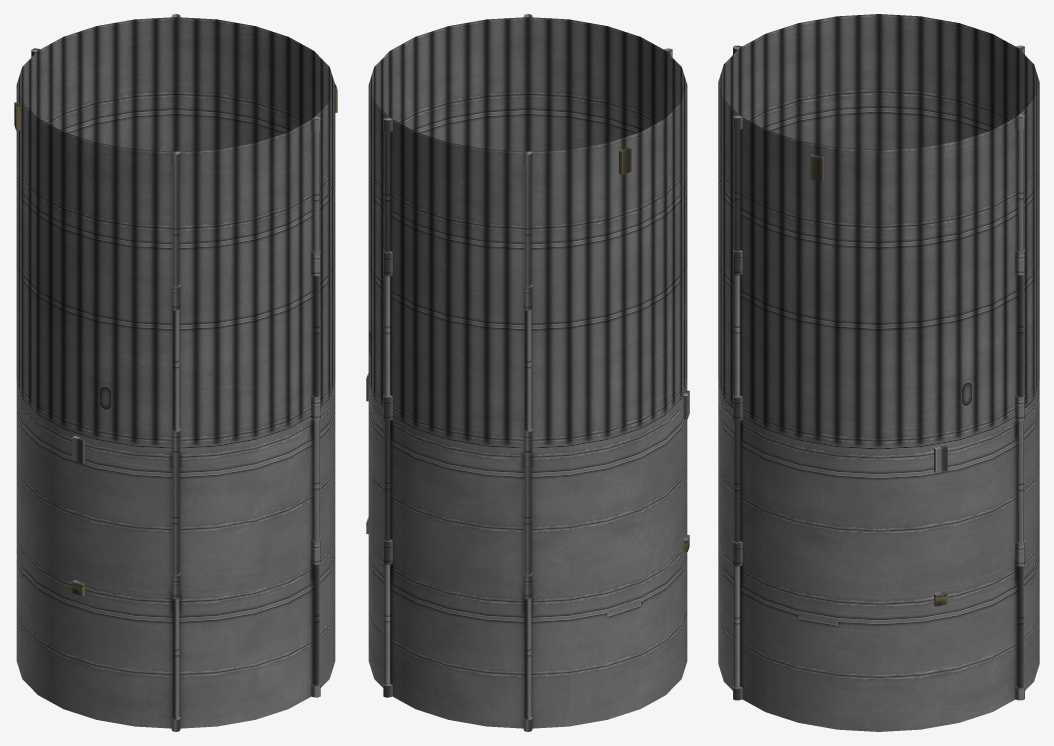
Rendered from blue_streak_fuel_tank_s1p5_3_alt.obj.
The picture shows the model from 3 angles, left to right: view 1: azimuth 30°, elevation 25°; view 2: azimuth 150°, elevation 25°; view 3: azimuth 270°, elevation 25°; orthographic projection.
Parts seen in each view (by area): view 1: mesh2; view 2: mesh2; view 3: mesh2.
Part boxes in pixels (box(x1,y1,x2,y2)): mesh2: box(14, 14, 337, 731); mesh2: box(366, 14, 689, 731); mesh2: box(718, 14, 1039, 731).
Bounding box in the file's own units: 1.88 × 3.75 × 1.88.
